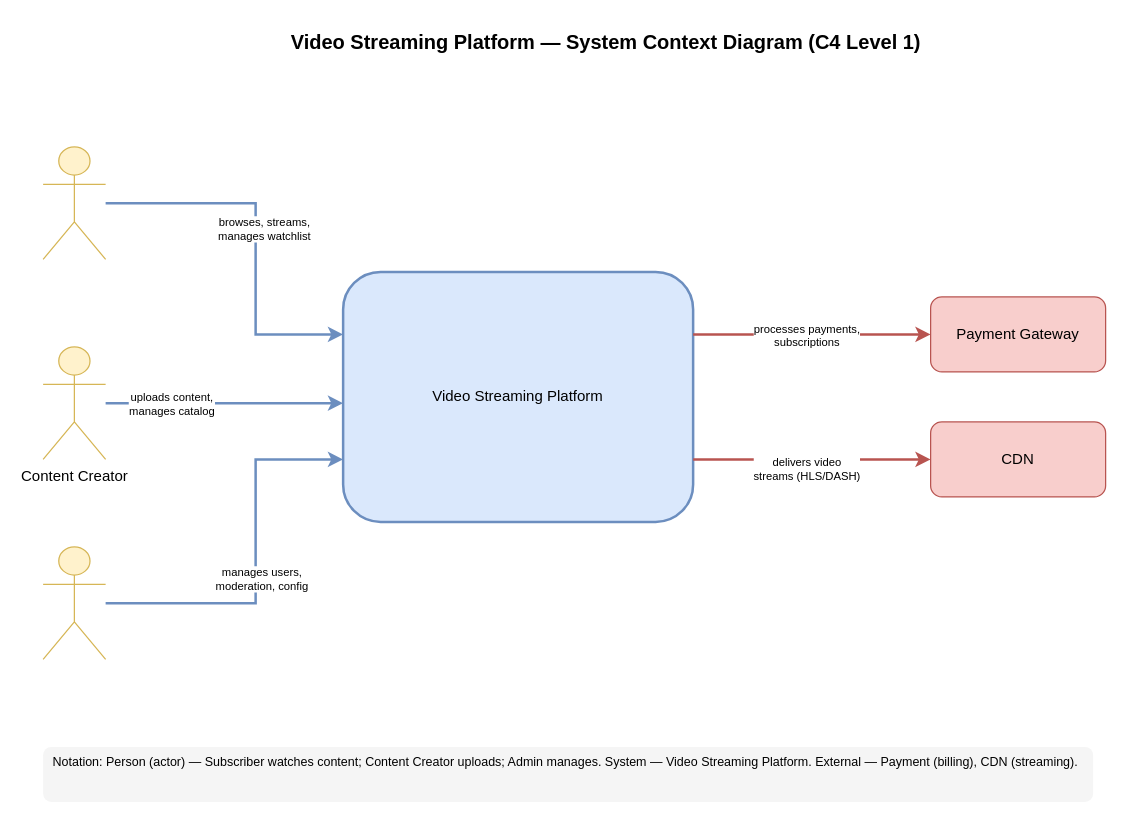
The diagram is 1128 pixels wide and 823 high, and some of its shapes have lost their labels. Each missing label, with the centre of its shape:
Admin: point (74, 602)
Subscriber: point (74, 202)
